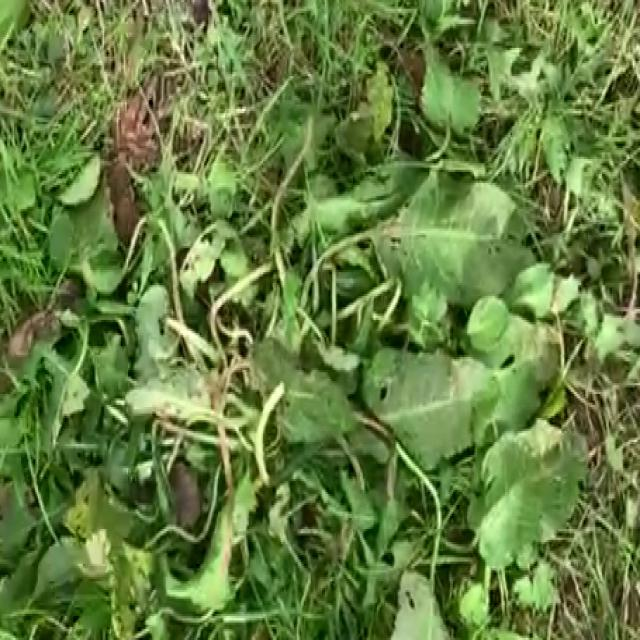organic waste: (18, 39, 567, 640)
